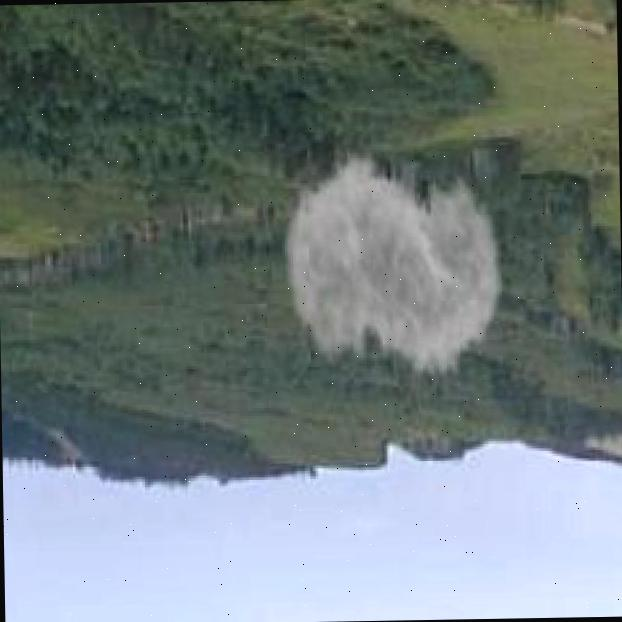smoke: (281, 130, 507, 409)
